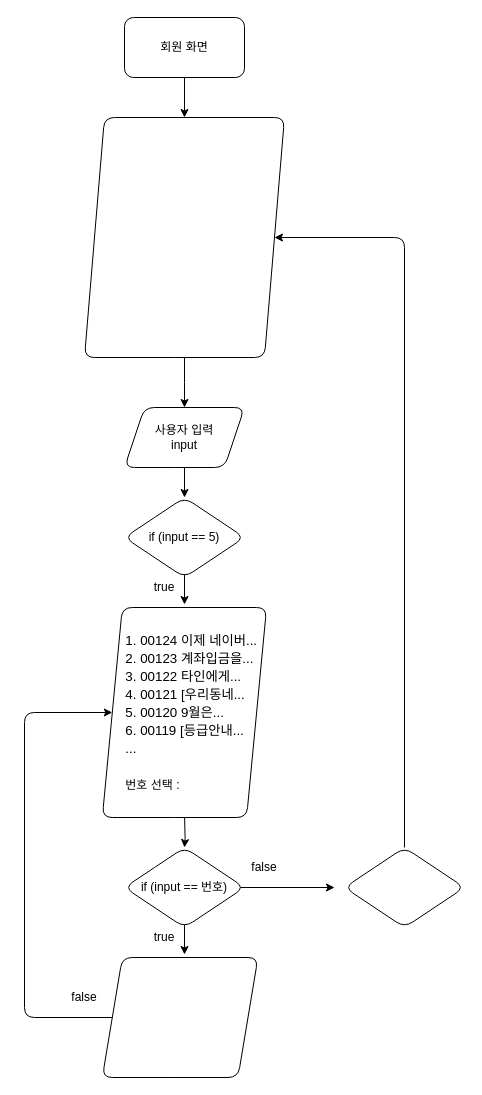
Image size: 482x1095. Some labels were removed from this diagram. The box of each missing label's shape, as (x1, y1, x2, y2) in pixels:
1. 상품 목록 2. 상품 검색 3. 게시글 관리 4. 내 정보 5. 공지사항 6. Q&A 7. 로그아웃 8. 프로그램 종료 번호 선택 :: (84, 116, 284, 358)
if (input == 0): (344, 846, 464, 928)
공지사항 확인: (101, 956, 258, 1078)
